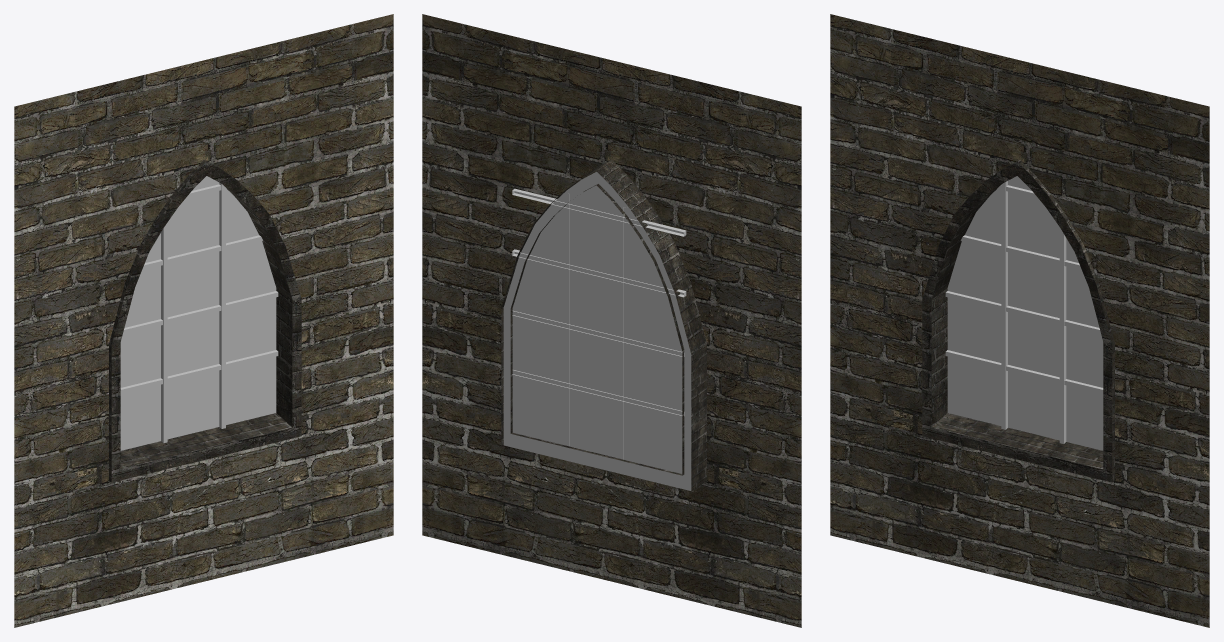
The model's file is courtyard_outside_wall_window.dae.
3 renders of one model, left to right at view 1: azimuth 30°, elevation 25°; view 2: azimuth 150°, elevation 25°; view 3: azimuth 330°, elevation 25°, orthographic.
Parts seen in each view (by area): view 1: polySurface5, pCube10, polySurface6, pCube16, pCube15, pCube11, pCube12, pCube13; view 2: polySurface5, pCube10, polySurface6, pCube14; view 3: polySurface5, pCube10, polySurface6, pCube15, pCube16, pCube11, pCube12, pCube13.
Boxes of the visible parts, <box> form: polySurface5: <box>14,14,393,627</box>; pCube10: <box>120,176,276,450</box>; polySurface6: <box>109,160,301,482</box>; pCube16: <box>219,182,225,428</box>; pCube15: <box>161,223,167,443</box>; pCube11: <box>120,350,278,394</box>; pCube12: <box>122,291,278,334</box>; pCube13: <box>142,235,262,270</box>; polySurface5: <box>422,14,801,627</box>; pCube10: <box>503,171,693,491</box>; polySurface6: <box>501,160,706,491</box>; pCube14: <box>512,188,686,236</box>; polySurface5: <box>830,14,1209,627</box>; pCube10: <box>947,176,1103,450</box>; polySurface6: <box>922,160,1114,482</box>; pCube15: <box>1001,181,1007,429</box>; pCube16: <box>1059,227,1066,443</box>; pCube11: <box>945,350,1103,394</box>; pCube12: <box>945,291,1101,334</box>; pCube13: <box>961,235,1081,270</box>.
Size of the model in its own units: 4 by 5.25 by 0.3332.
